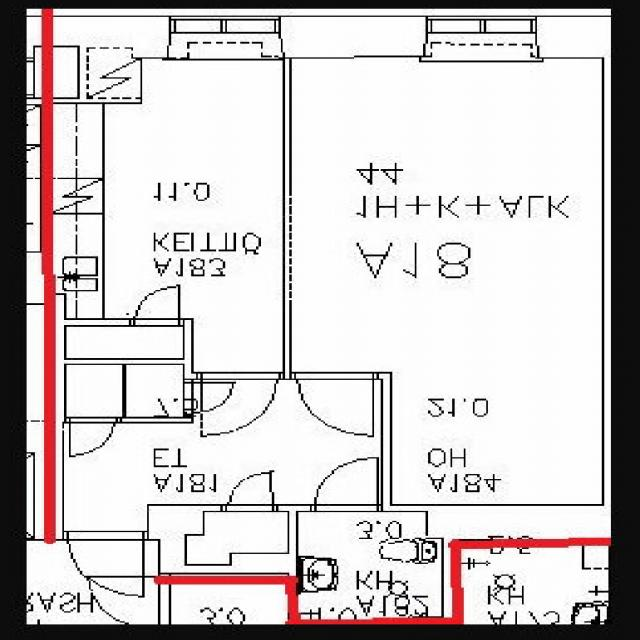door: (202, 372, 279, 437), (298, 372, 374, 436), (69, 531, 143, 596), (317, 457, 379, 512), (70, 418, 116, 458), (228, 471, 272, 512), (134, 285, 179, 325), (185, 382, 232, 412)
